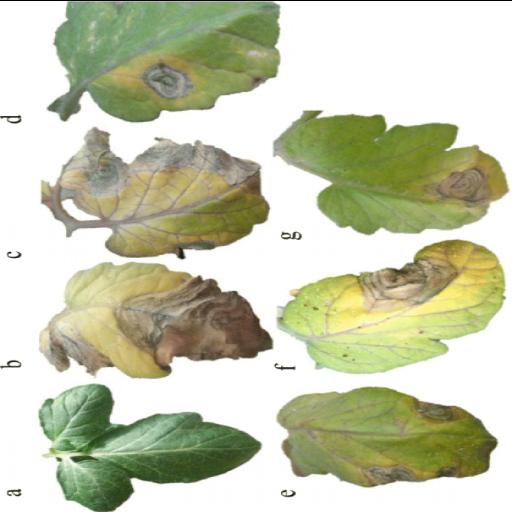disease_tomato: (276, 238, 508, 372), (272, 107, 506, 231), (48, 0, 278, 123), (38, 262, 273, 376), (273, 385, 495, 487)
